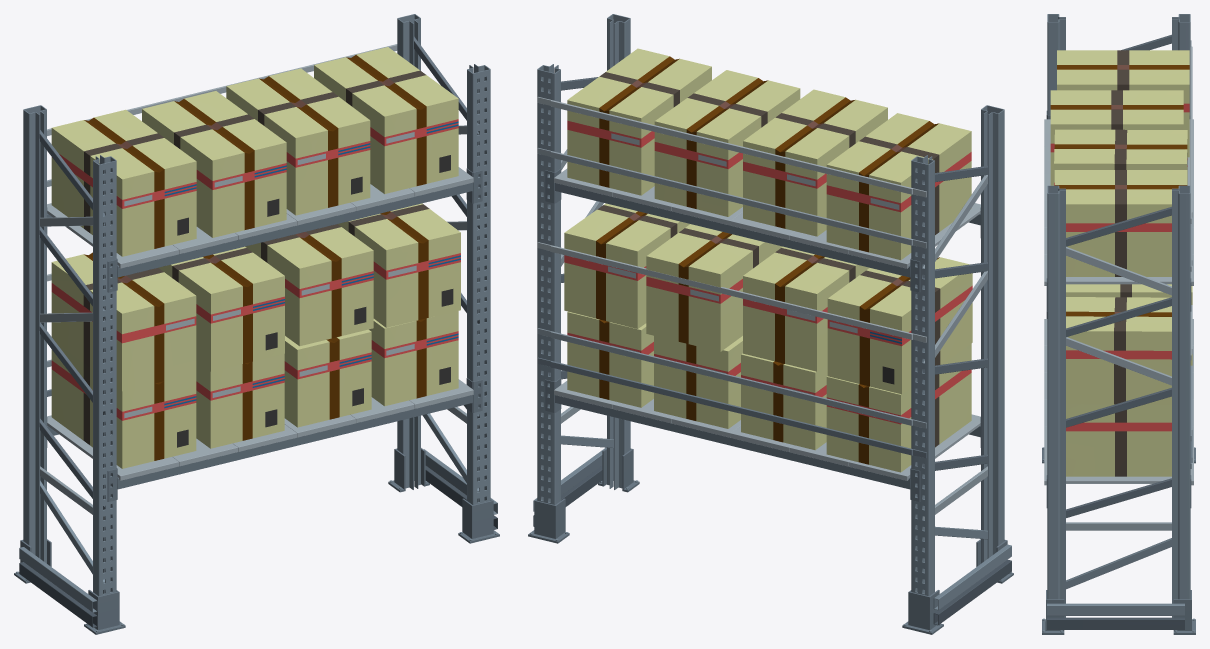
File: SM_ShelfBoxesx1_White_D.fbx
3 views of the same model, side by side, from view 1: azimuth 30°, elevation 25°; view 2: azimuth 150°, elevation 25°; view 3: azimuth 270°, elevation 25° (orthographic). The views are drawn at different scales.
Visible parts, largest first — view 1: SM_ShelfBoxesx1_White_D; view 2: SM_ShelfBoxesx1_White_D; view 3: SM_ShelfBoxesx1_White_D.
Part boxes in pixels (bbox=[...]): SM_ShelfBoxesx1_White_D: bbox=[14, 14, 499, 634]; SM_ShelfBoxesx1_White_D: bbox=[528, 14, 1013, 634]; SM_ShelfBoxesx1_White_D: bbox=[1042, 14, 1195, 634].
Bounding box in the file's own units: 336 × 370 × 118.
